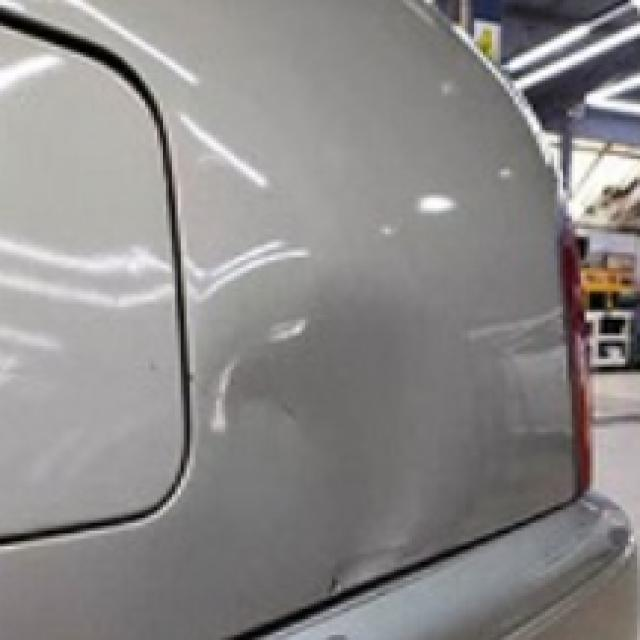dents: (206, 283, 516, 598)
